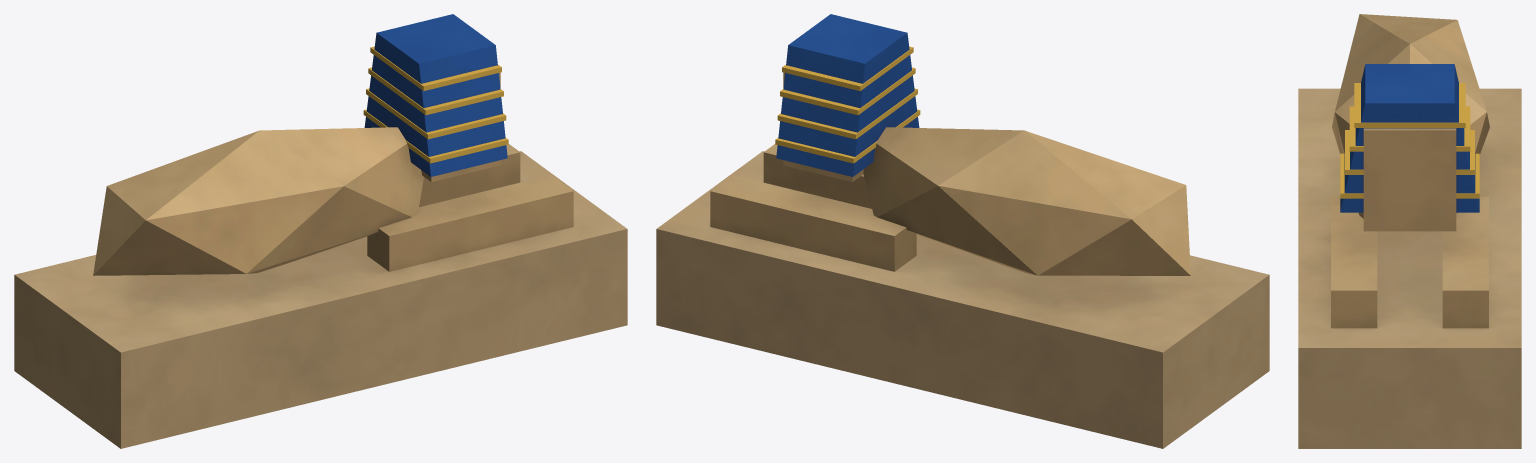
File: sfinx_liten_tex.glb
The picture shows the model from 3 angles, left to right: view 1: azimuth 30°, elevation 25°; view 2: azimuth 150°, elevation 25°; view 3: azimuth 270°, elevation 25°; orthographic projection. The views are drawn at different scales.
Visible parts, largest first — view 1: sfinx_liten; view 2: sfinx_liten; view 3: sfinx_liten.
Part boxes in pixels (x1,y1,x2,y2): sfinx_liten: [14, 14, 627, 448]; sfinx_liten: [656, 14, 1269, 448]; sfinx_liten: [1298, 14, 1521, 448].
Bounding box in the file's own units: 6.6 × 3.5 × 2.4.
4 materials, 3 textured.
